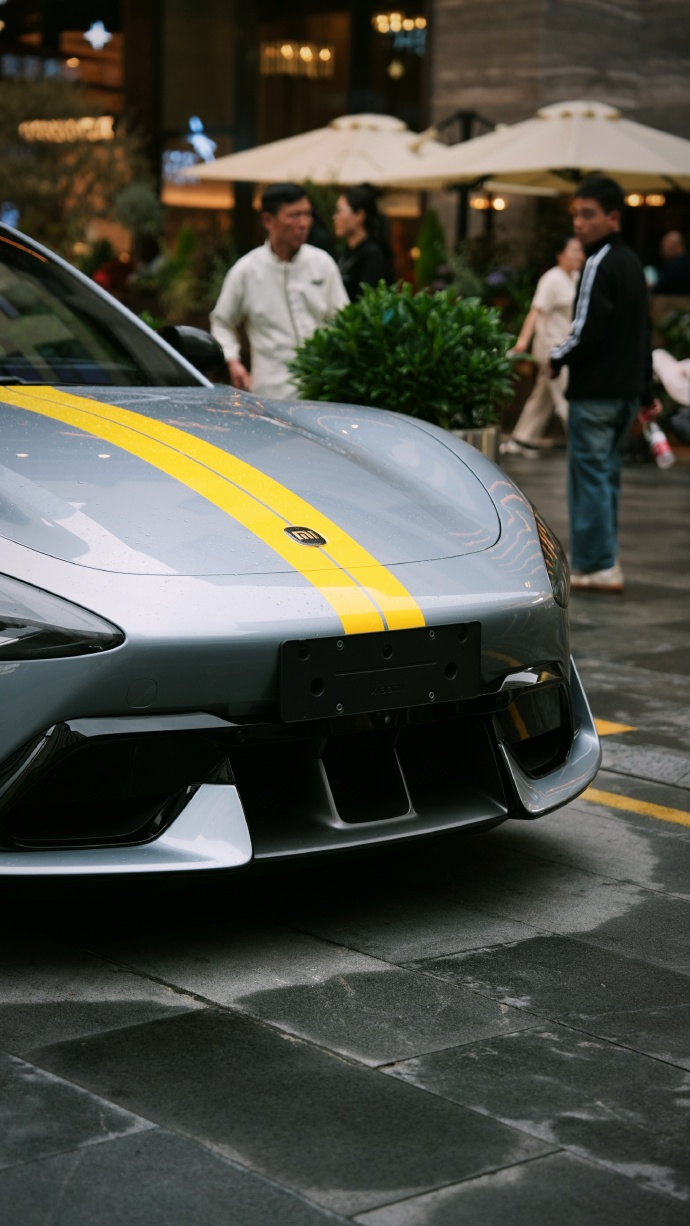su7: (0, 227, 613, 893)
